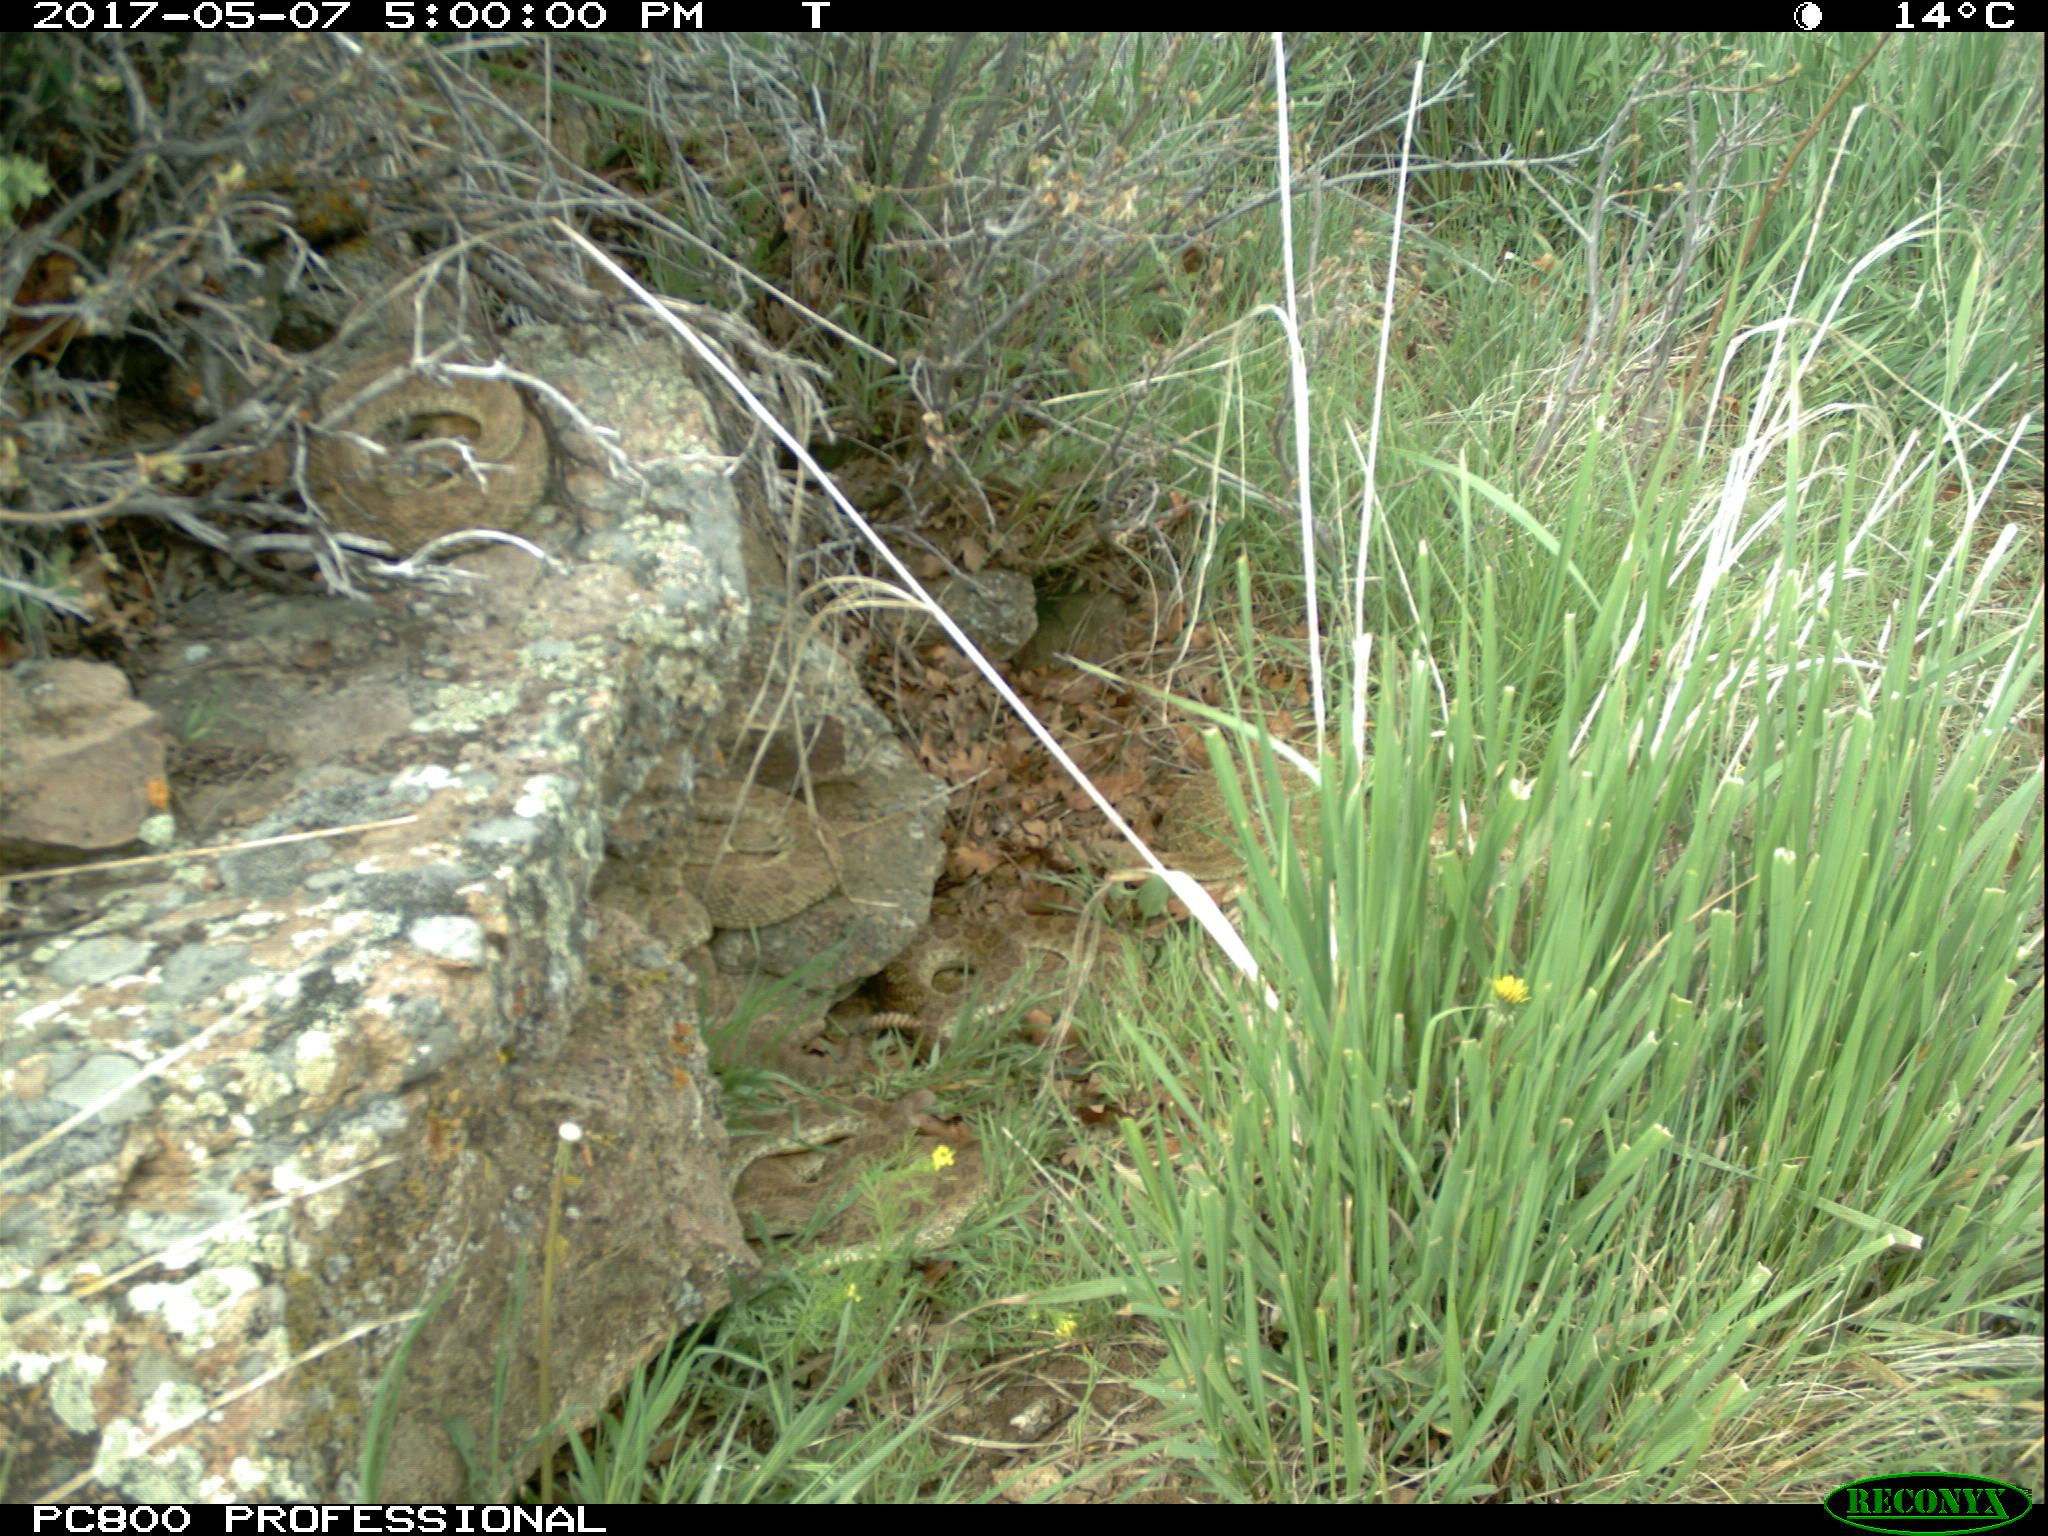snake: (708, 1084, 1008, 1267), (302, 363, 572, 552), (880, 900, 1159, 1036), (677, 766, 861, 934), (1122, 752, 1334, 883)
